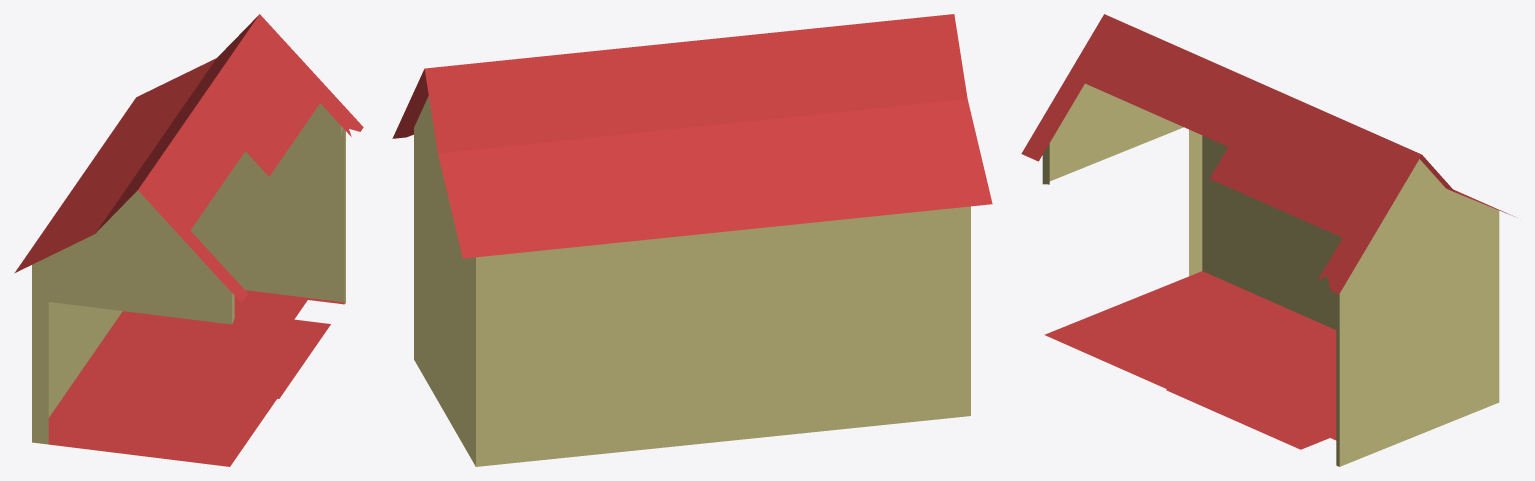
3 views of the same model, side by side, from view 1: azimuth 30°, elevation 25°; view 2: azimuth 150°, elevation 25°; view 3: azimuth 270°, elevation 25° (orthographic). The views are drawn at different scales.
Size of the model in its own units: 25.26 by 24.92 by 15.85.
